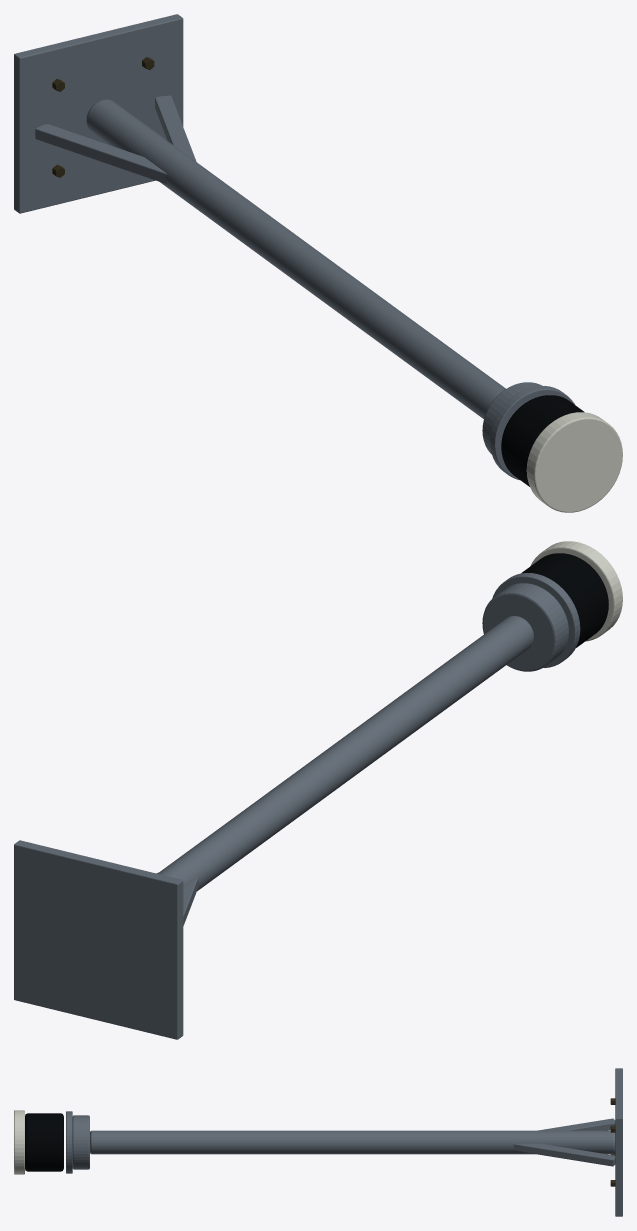
The model's file is lidar_3d.obj.
3 views of the same model, one above another, from view 1: azimuth 30°, elevation 25°; view 2: azimuth 150°, elevation 25°; view 3: azimuth 270°, elevation 25° (orthographic). The views are drawn at different scales.
Visible parts, largest first — view 1: Deck_plate.001, Mast, Top_cap.001, Optical_window.001, Gusset_0, Cooling_collar, Gusset_2, Lower_housing; view 2: Deck_plate.001, Mast, Lower_housing, Optical_window.001, Top_cap.001, Cooling_collar; view 3: Mast, Optical_window.001, Deck_plate.001, Gusset_2, Lower_housing, Top_cap.001, Gusset_0, Cooling_collar.
Boxes of the visible parts, left/top/right/bottom form: Deck_plate.001: left=14, top=14, right=183, bottom=213; Mast: left=86, top=99, right=505, bottom=418; Top_cap.001: left=526, top=412, right=622, bottom=512; Optical_window.001: left=501, top=395, right=584, bottom=486; Gusset_0: left=35, top=124, right=166, bottom=184; Cooling_collar: left=490, top=386, right=574, bottom=479; Gusset_2: left=155, top=95, right=196, bottom=161; Lower_housing: left=482, top=382, right=542, bottom=454; Deck_plate.001: left=14, top=840, right=183, bottom=1039; Mast: left=157, top=616, right=533, bottom=891; Lower_housing: left=482, top=583, right=568, bottom=671; Optical_window.001: left=521, top=553, right=608, bottom=647; Top_cap.001: left=530, top=541, right=622, bottom=641; Cooling_collar: left=492, top=573, right=580, bottom=667; Mast: left=90, top=1130, right=615, bottom=1154; Optical_window.001: left=25, top=1113, right=63, bottom=1171; Deck_plate.001: left=615, top=1068, right=622, bottom=1216; Gusset_2: left=513, top=1143, right=615, bottom=1166; Lower_housing: left=72, top=1115, right=89, bottom=1169; Top_cap.001: left=14, top=1110, right=24, bottom=1174; Gusset_0: left=538, top=1118, right=615, bottom=1130; Cooling_collar: left=66, top=1111, right=72, bottom=1173.
Bounding box in the file's own units: 0.22 × 0.2 × 1.12.
